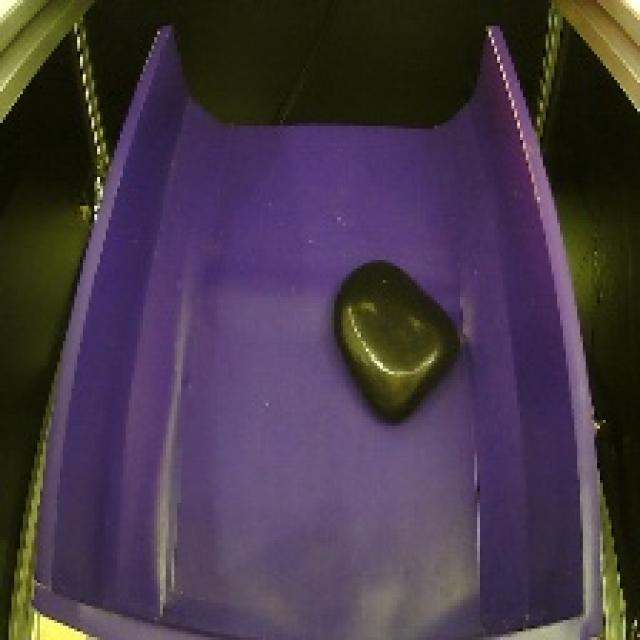cobbles: (328, 253, 468, 432)
